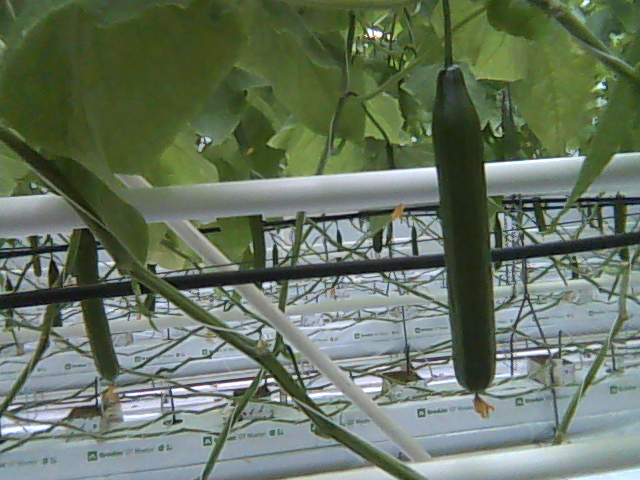concombre: (427, 57, 500, 424)
